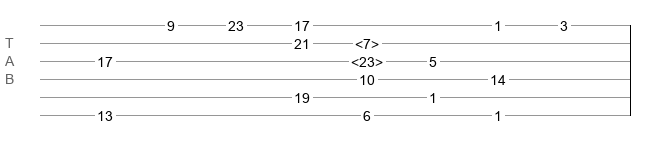1: (429, 90, 437, 100), (494, 18, 502, 28), (494, 108, 502, 118)
10: (359, 72, 375, 82)
13: (97, 108, 113, 118)
14: (490, 72, 506, 82)
17: (97, 54, 113, 64), (294, 18, 310, 28)
19: (294, 90, 310, 100)
21: (294, 36, 310, 46)
23: (228, 18, 244, 28)
3: (560, 18, 568, 28)
5: (429, 54, 437, 64)
6: (363, 108, 371, 118)
9: (167, 18, 175, 28)
harmonic: (351, 54, 383, 64), (355, 36, 379, 46)
